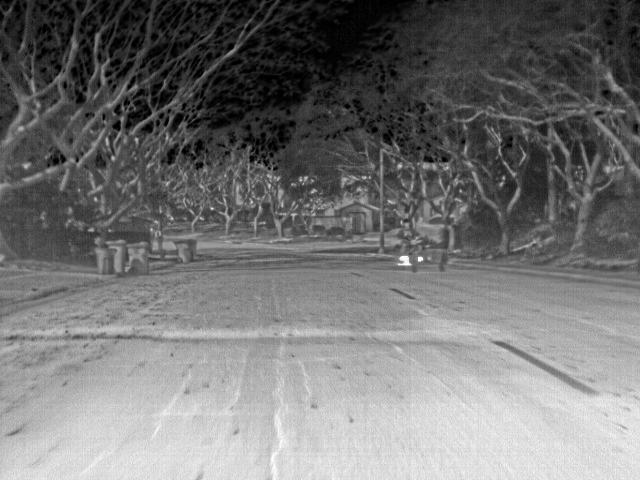person: (401, 218, 420, 254), (154, 227, 167, 252)
